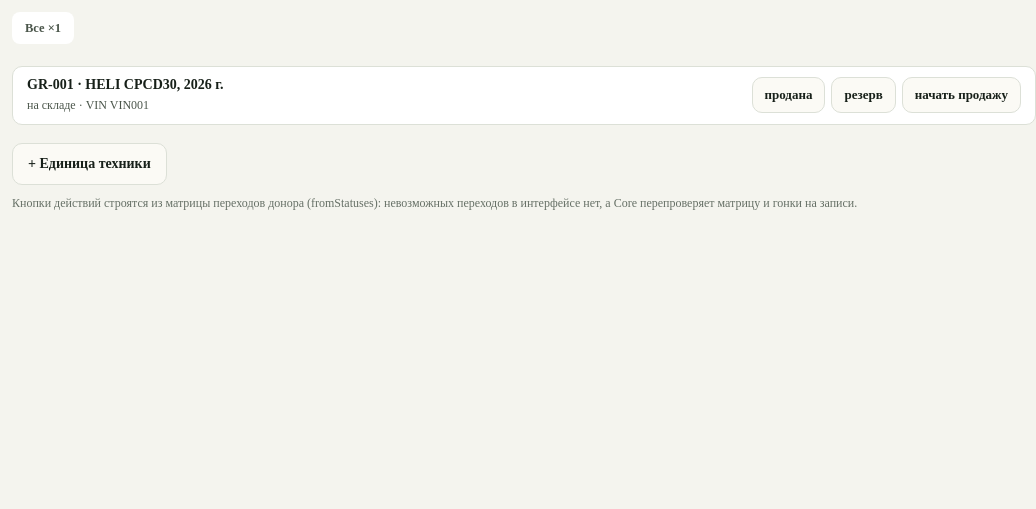
Scenario: формы склада техники › передаёт реквизиты резерва и не закрывает форму при ошибке
Click the button "резерв" at [864, 95], box [831,77,896,113]
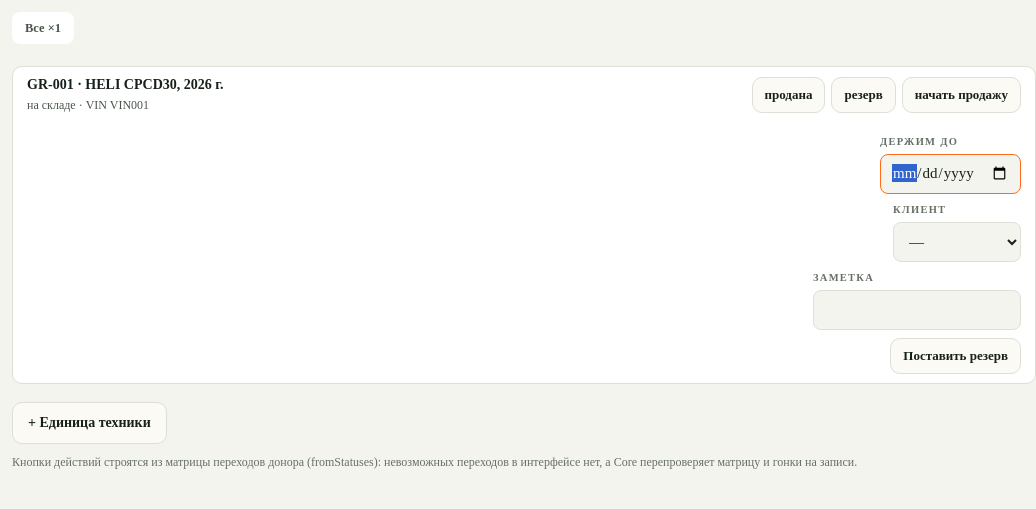
Type "2026-08-20" into the date field labelled "Держим до" at [950, 174], box [880,154,1021,194]
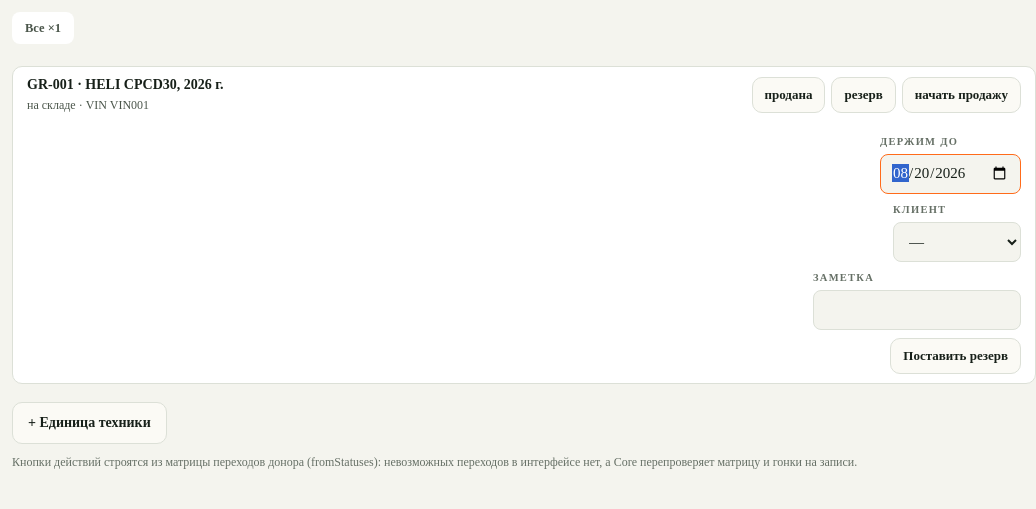
Select "ООО Клиент" in the dropdown labelled "Клиент" at [957, 242], box [893,222,1021,262]
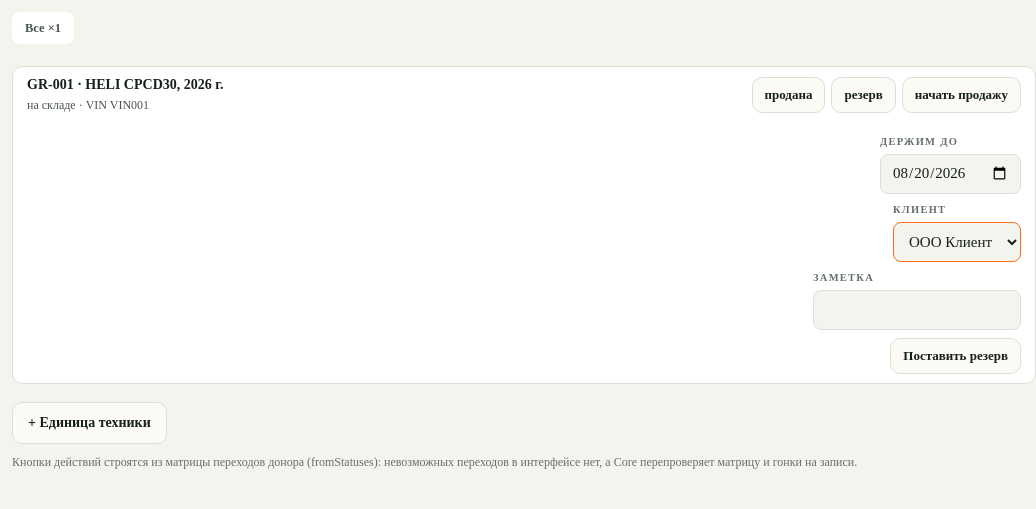
Type "Для тендера" into the field labelled "Заметка" at [917, 310], box [813,290,1021,330]
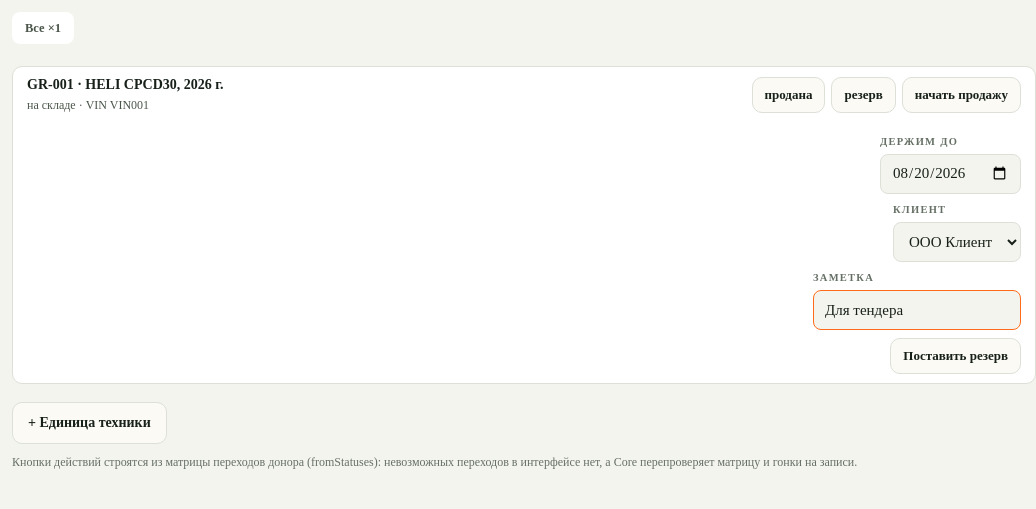
Click the button "Поставить резерв" at [956, 356], box [890,338,1021,374]
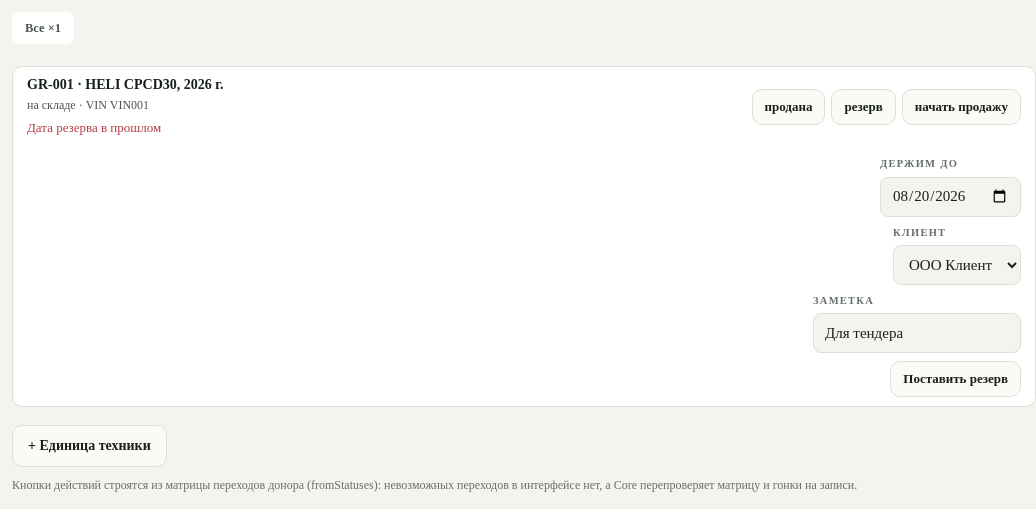
Result: the text "Дата резерва в прошлом" is shown at [27,120,161,135]
